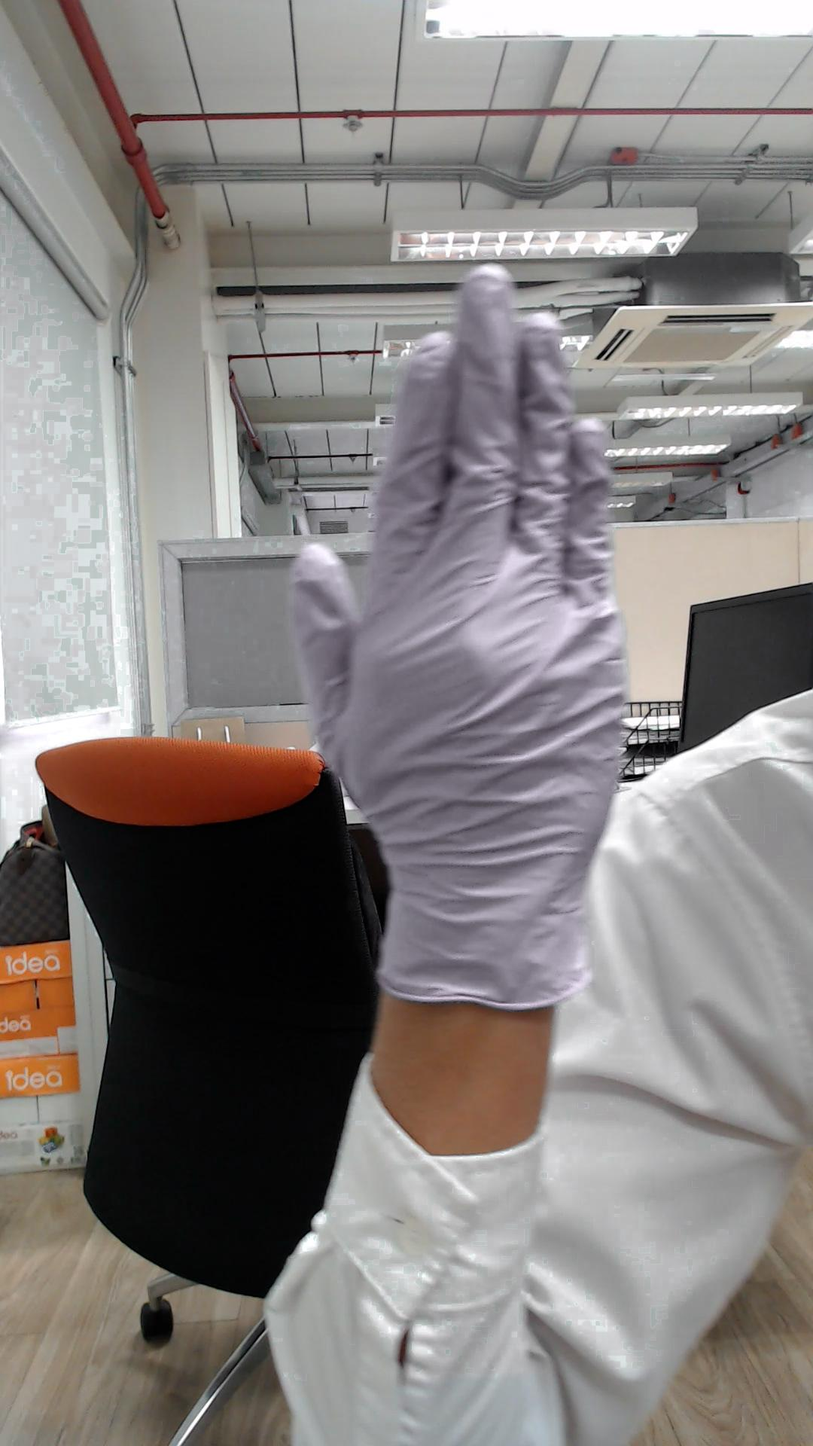gloves: (235, 226, 723, 930)
